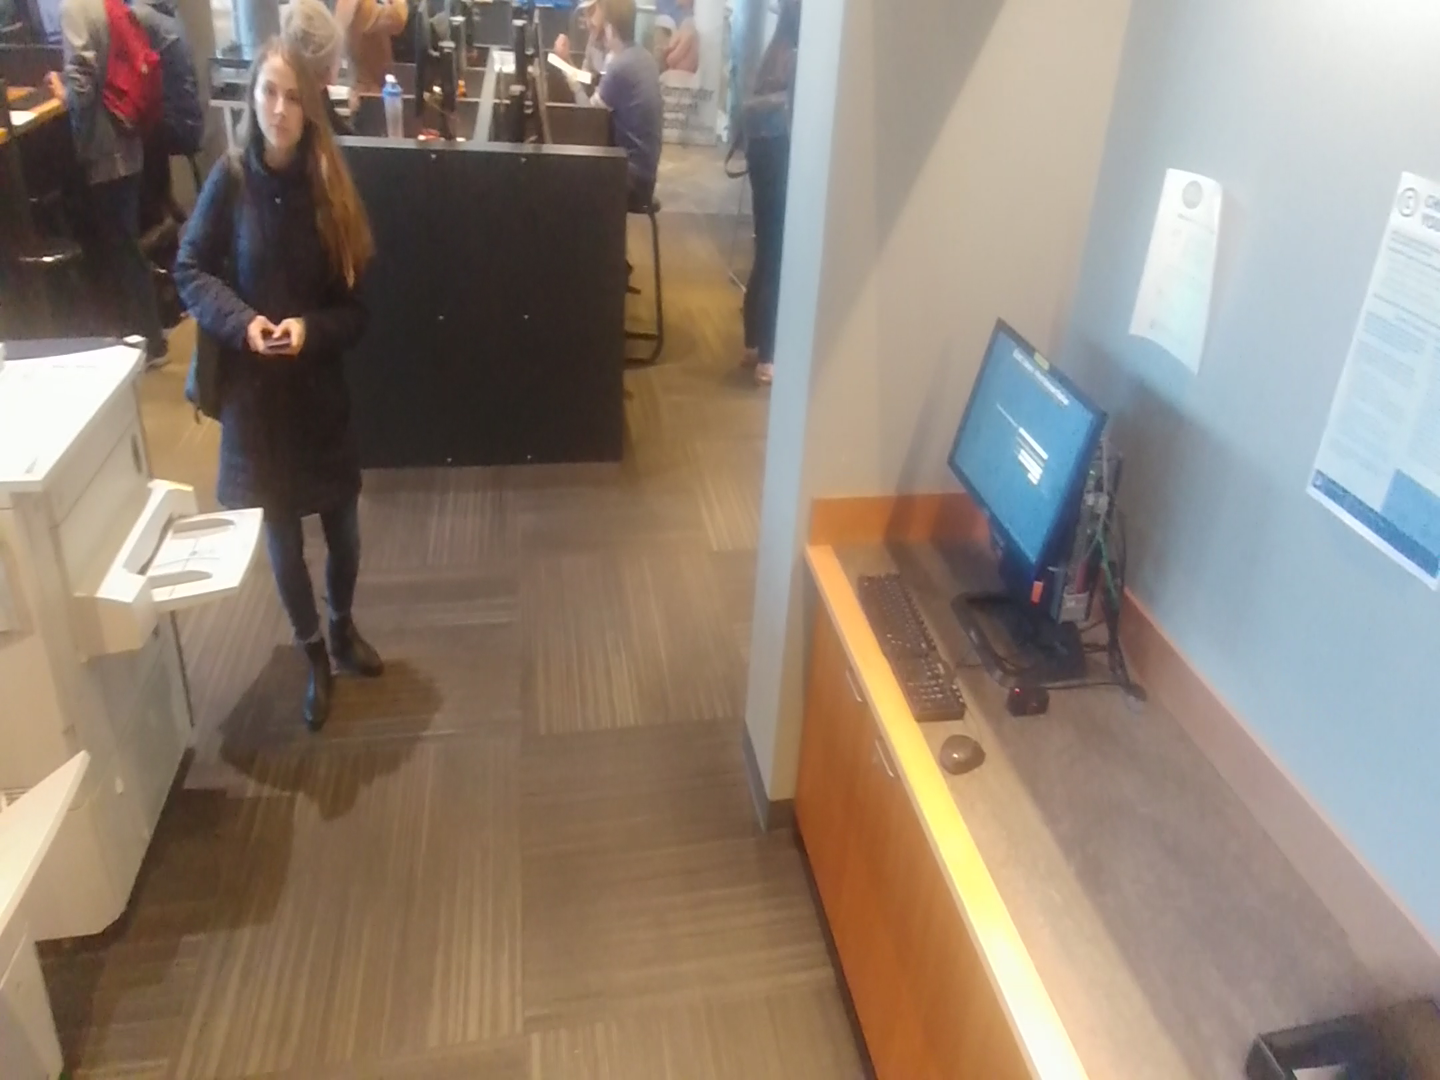face: (230, 29, 335, 175), (576, 0, 651, 68)
human: (147, 22, 406, 734), (40, 0, 179, 374), (737, 0, 815, 384), (575, 0, 674, 226)
